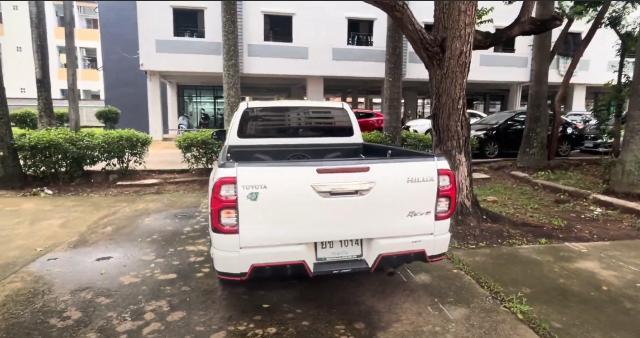pickup-truck: (200, 97, 463, 292)
